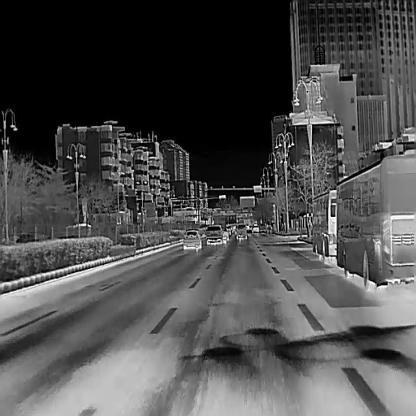car: (336, 138, 416, 289), (312, 188, 336, 260), (183, 228, 201, 249), (206, 223, 223, 244), (236, 222, 246, 238), (220, 227, 228, 239), (252, 222, 259, 232)
